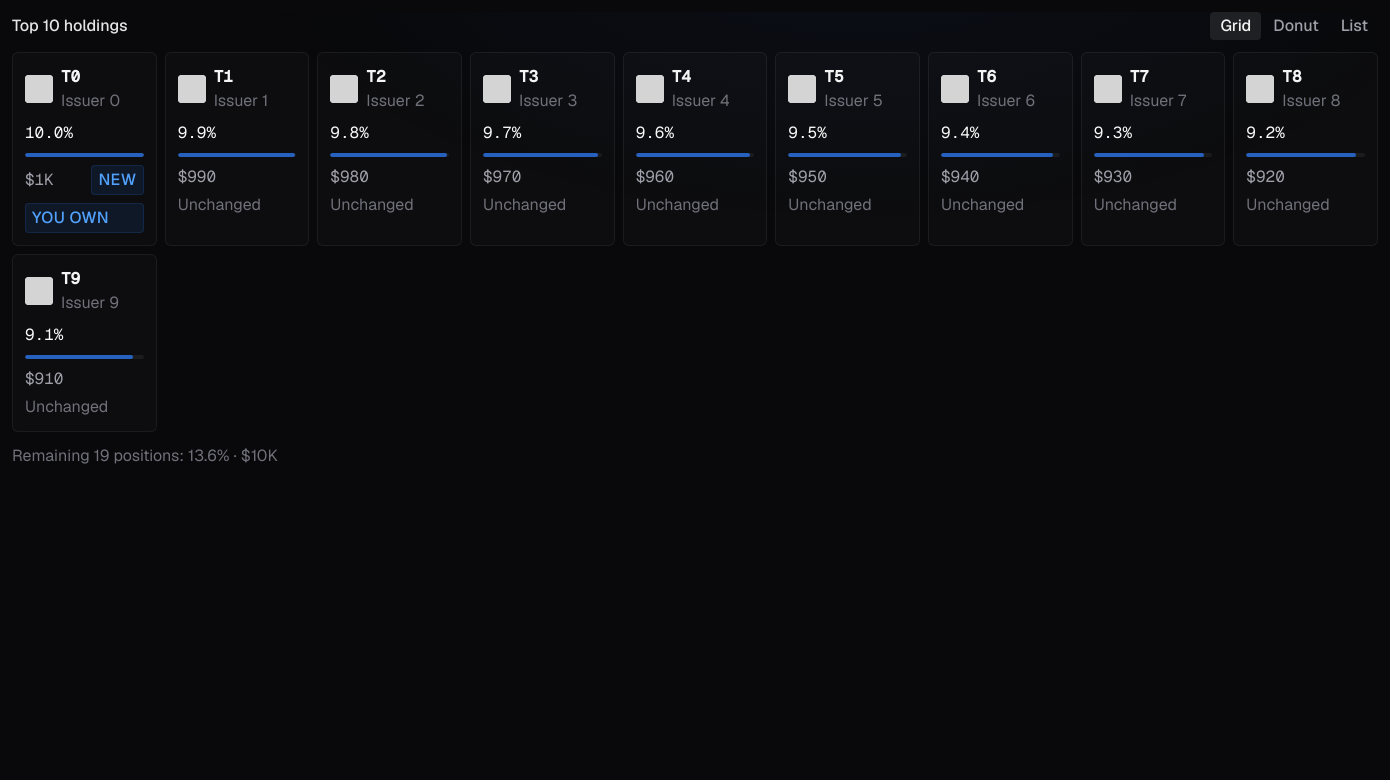
it: TopHoldings › switches to the list and remembers the choice
Click the button "List" at x=1354, y=26, box [1331,12,1378,40]
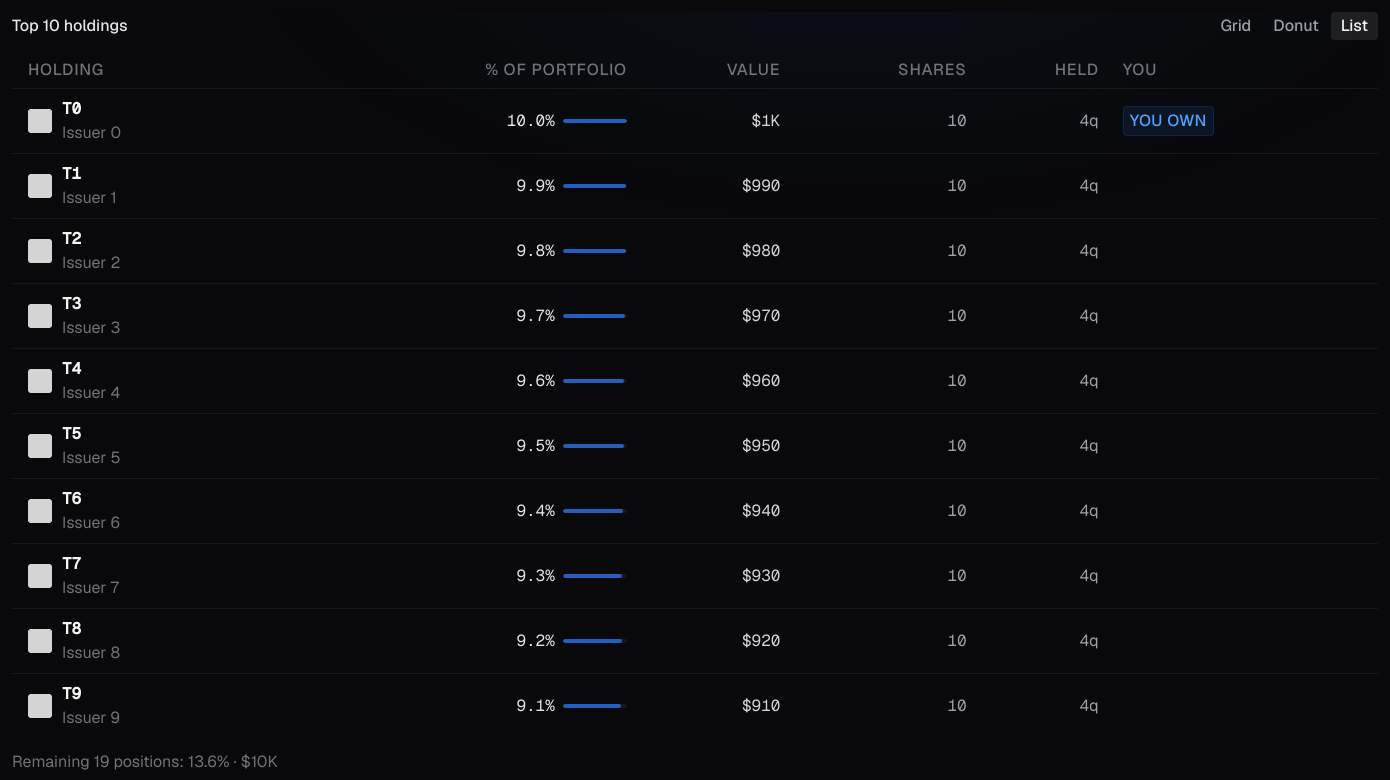
Expected: the number of rows is 11
